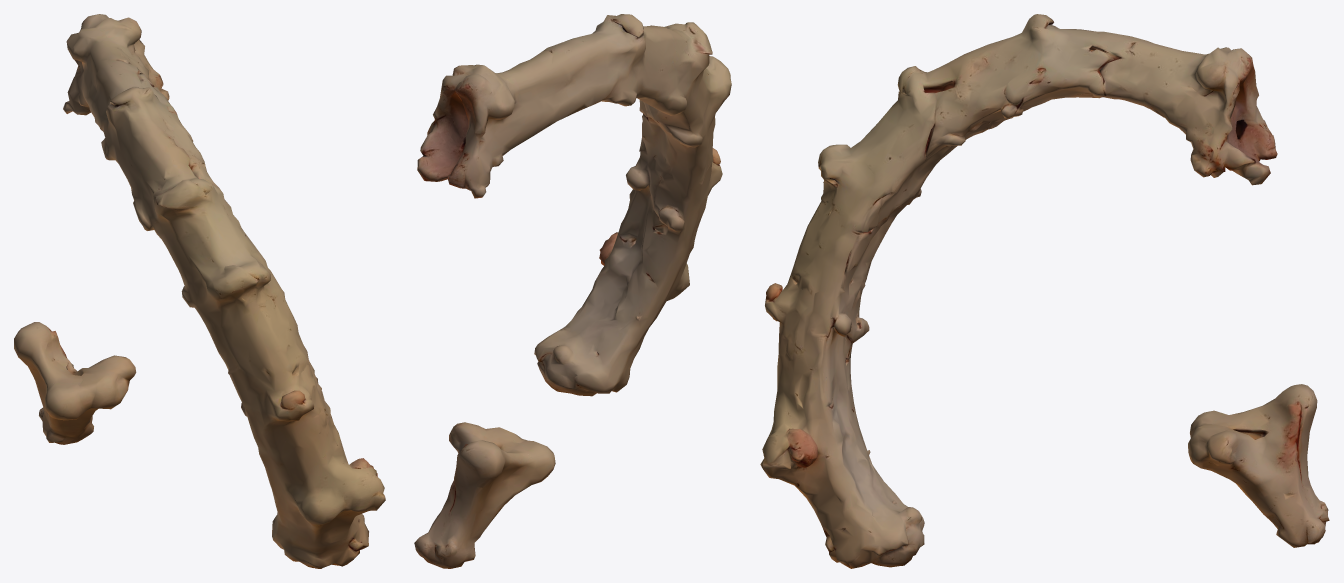
Rendered from rib.glb.
3 views of the same model, side by side, from view 1: azimuth 30°, elevation 25°; view 2: azimuth 150°, elevation 25°; view 3: azimuth 270°, elevation 25° (orthographic). The views are drawn at different scales.
Visible parts, largest first — view 1: tripo_node_ad3afd52-43c8-4dd0-987c-edae272bc7d0; view 2: tripo_node_ad3afd52-43c8-4dd0-987c-edae272bc7d0; view 3: tripo_node_ad3afd52-43c8-4dd0-987c-edae272bc7d0.
Boxes of the visible parts, x1,y1,x2,y2 form: tripo_node_ad3afd52-43c8-4dd0-987c-edae272bc7d0: (14, 14, 385, 568); tripo_node_ad3afd52-43c8-4dd0-987c-edae272bc7d0: (414, 14, 731, 568); tripo_node_ad3afd52-43c8-4dd0-987c-edae272bc7d0: (760, 14, 1329, 568).
Bounding box in the file's own units: 0.4139 × 0.9628 × 1.
1 material, 1 textured.
